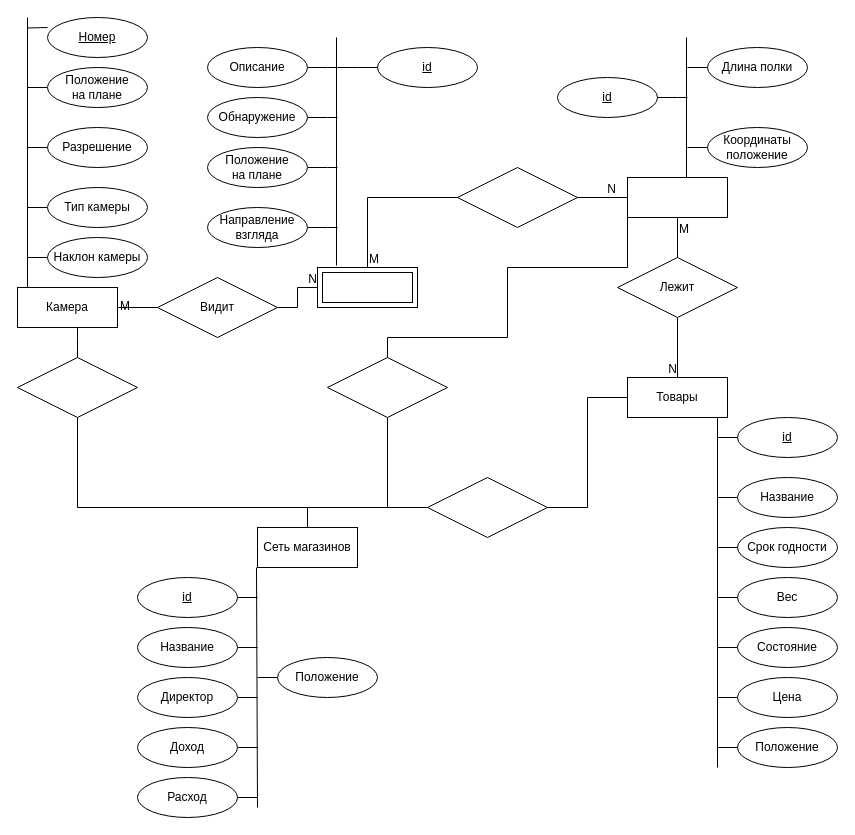
Image size: 855x835. Some labels were removed from this diagram. Here are the shapes that lost their labels. From the top down, the centre of each, then its label:
(x=517, y=197): Взаимодействует
(x=677, y=197): Полка
(x=367, y=287): Посетитель
(x=77, y=387): Содержит
(x=387, y=387): Находится
(x=487, y=507): Принадлежит
